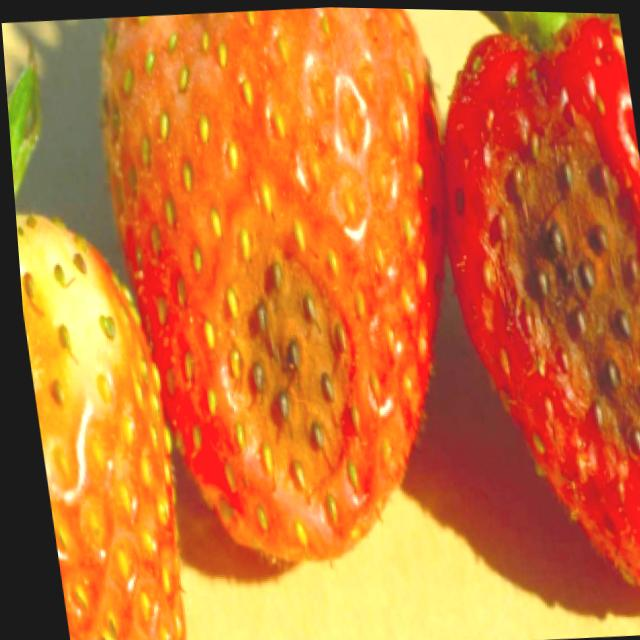Anthracnose Fruit Rot: (471, 101, 640, 472), (187, 185, 362, 503), (12, 211, 120, 507)
